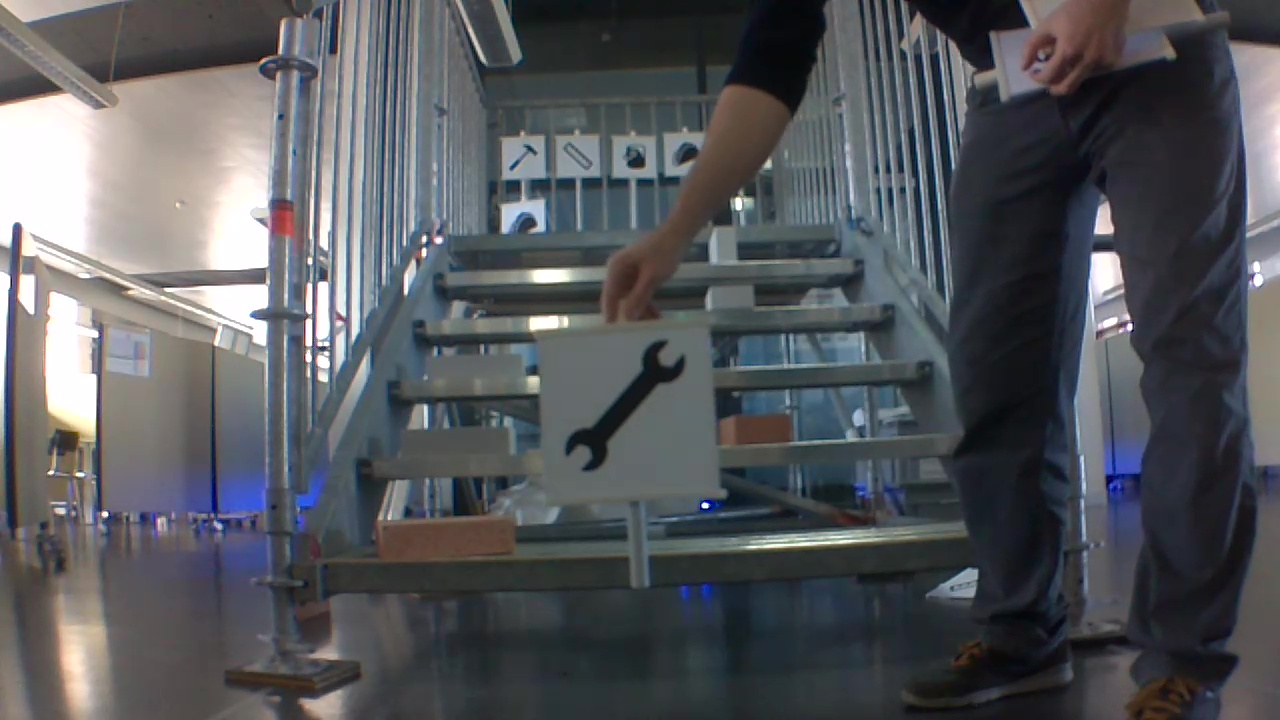brick: (374, 514, 521, 564), (391, 425, 515, 462), (419, 355, 529, 386), (722, 414, 789, 445), (698, 284, 753, 309), (710, 223, 736, 262)
bucket: (621, 141, 649, 173)
hammer: (508, 143, 539, 176)
ruler: (559, 140, 593, 171)
taco: (507, 208, 539, 237), (673, 139, 698, 165)
wrench: (562, 339, 688, 474)
